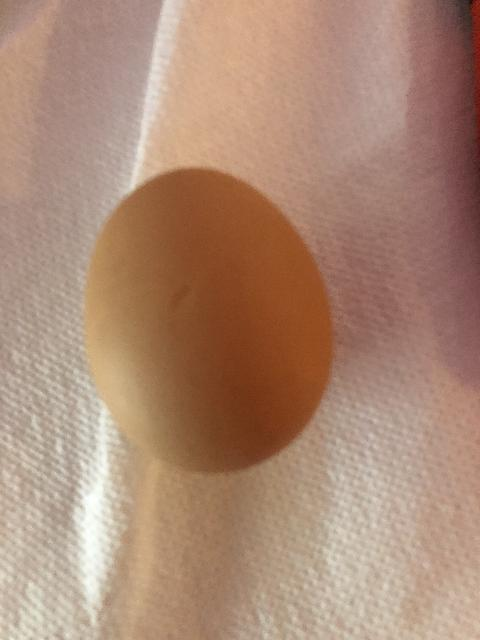Sano: (82, 164, 336, 474)
